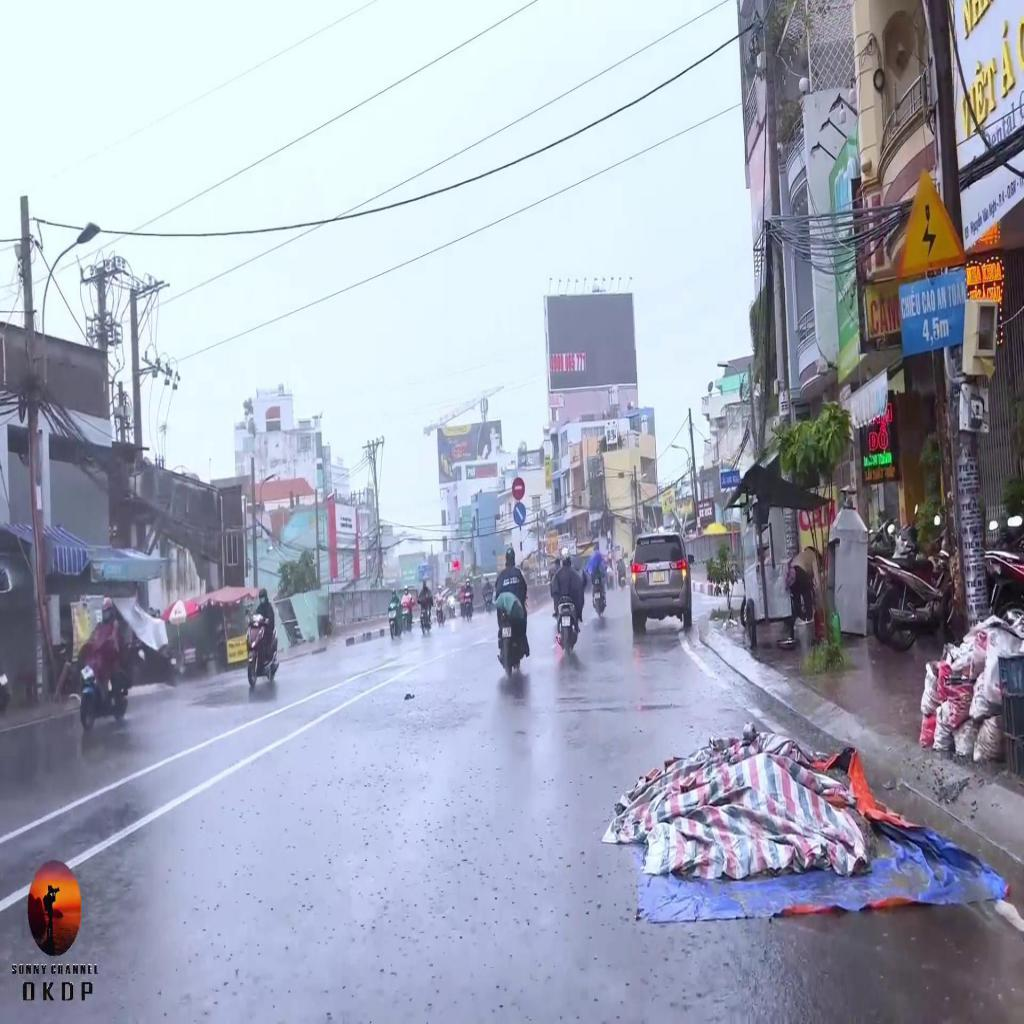cam_xe_di_nguoc_chieu: (512, 478, 526, 499)
huong_phai_di_vuot_chuong_ngai_vat_phai: (513, 503, 526, 526)
khac: (896, 166, 968, 276)
